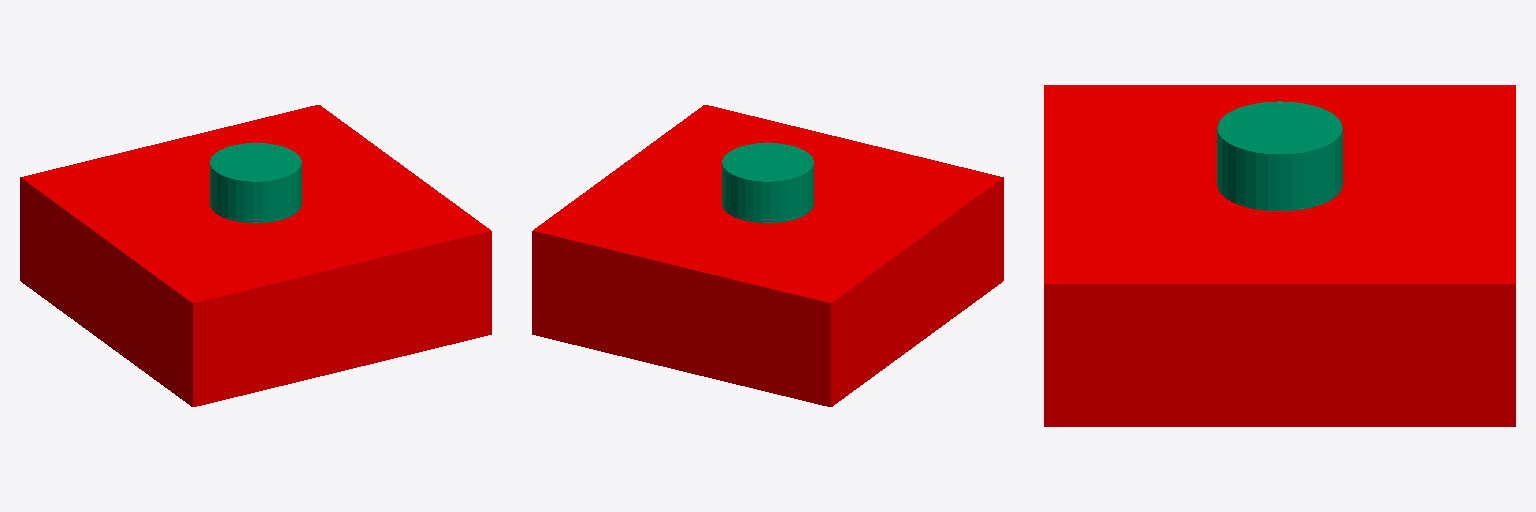
robot.urdf — my_robot:
<?xml version="1.0" ?>
<robot name="my_robot" xmlns:xacro="http://www.ros.org/wiki/xacro">

  <!-- #region footprint -->
  <link name="base_footprint" />
  <joint name="base_joint" type="fixed">
    <parent link="base_footprint" />
    <child link="base_link" />
    <origin xyz="0 0 0" rpy="0 0 0" />
  </joint>


  <link name="base_link">
    <inertial>
      <mass value="10"/>
      <inertia ixx="0.4" ixy="0.0" ixz="0.0" iyy="0.4" iyz="0.0" izz="0.2"/>
    </inertial>
    <visual>
      <origin xyz="0 0 0" rpy="0 0 0" />
      <geometry>
        <box size="0.3 0.3 0.1" />
      </geometry>
      <material name="">
        <color rgba="1 0 0 1" />
      </material>
    </visual>
    <collision>
      <origin xyz="0 0 0" rpy="0 0 0" />
      <geometry>
        <box size="0.3 0.3 0.1" />
      </geometry>
    </collision>
  </link>

 <link name="laser">
    <visual>
      <origin xyz="0 0 0" rpy="0 0 0" />
      <geometry>
        <cylinder length="0.06" radius="0.04" />
      </geometry>
    </visual>
  </link>

  <joint name="laser_joint" type="fixed">
    <origin xyz="0 0 0.06" rpy="0 0 0" />
    <parent link="base_link" />
    <child link="laser" />
  </joint>


	<gazebo reference="laser">
		<sensor type="gpu_ray" name="laser_sensor">
			<pose>0 0 0 0 0 0</pose>
			<visualize>false</visualize>
			<update_rate>40</update_rate>
			<ray>
				<scan>
					<horizontal>
						<samples>720</samples>
						<resolution>1</resolution>
						<min_angle>0</min_angle>
						<max_angle>6.28</max_angle>
					</horizontal>
				</scan>
				<range>
					<min>0.10</min>
					<max>3.0</max>
					<resolution>0.01</resolution>
				</range>
				<noise>
					<type>gaussian</type>
					<mean>0.0</mean>
					<stddev>0.01</stddev>
				</noise>
			</ray>
			<plugin name="gazebo_ros_head_hokuyo_controller" filename="libgazebo_ros_gpu_laser.so">
				<topicName>scan</topicName>
				<frameName>laser</frameName>
			</plugin>
		</sensor>
	</gazebo>



<!--#region Holonomic-->
  <gazebo>
    <plugin name="object_controller" filename="libgazebo_ros_planar_move.so">

      <commandTopic>cmd_vel</commandTopic>
      <odometryTopic>odom</odometryTopic>
      <odometryFrame>odom</odometryFrame>
      <odometryRate>20.0</odometryRate>
      <robotBaseFrame>base_footprint</robotBaseFrame>
    </plugin>
  </gazebo>
<!--#endregion holonomic-->



  <gazebo reference="base_link">
    <material>Gazebo/Green</material>
  </gazebo>
</robot>

--- Facts derived from the render (not from the file) ---
The picture shows the robot from 3 angles, left to right: view 1: azimuth 30°, elevation 25°; view 2: azimuth 150°, elevation 25°; view 3: azimuth 270°, elevation 25°; orthographic projection.
Model my_robot with 3 links and 2 joints (2 fixed), rooted at base_footprint, posed every joint at zero.
Links seen in each view (by area): view 1: base_link, laser; view 2: base_link, laser; view 3: base_link, laser.
Boxes of the visible links, box(x1,y1,x2,y2) form: base_link: box(20, 105, 491, 406); laser: box(210, 143, 301, 222); base_link: box(532, 105, 1003, 406); laser: box(722, 143, 813, 222); base_link: box(1044, 85, 1515, 426); laser: box(1217, 101, 1342, 210).
Bounding box of the posed robot: 0.3 × 0.3 × 0.14 m (x, y, z).
Geometry: primitives only (box / cylinder / sphere), no mesh files.